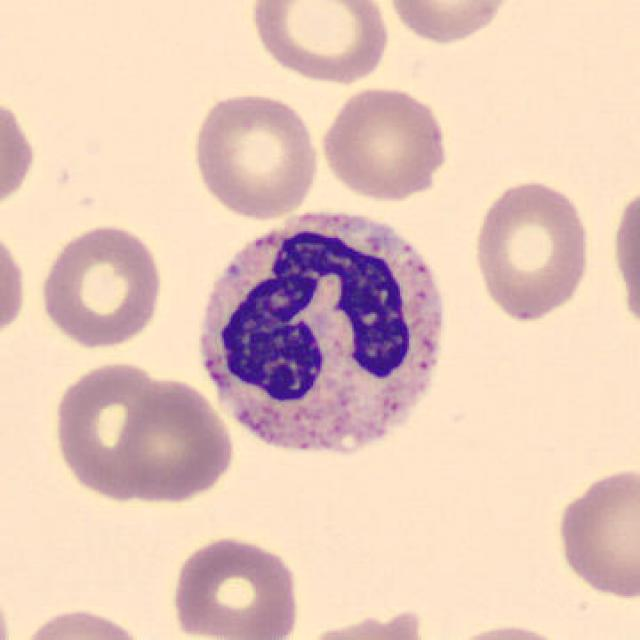Neutrophil: (188, 199, 458, 478)
RBC: (48, 361, 233, 506), (468, 174, 596, 324), (186, 88, 322, 222), (36, 218, 167, 350), (316, 83, 452, 204), (167, 530, 304, 640), (245, 0, 392, 86), (551, 460, 638, 603), (382, 0, 519, 48), (606, 176, 640, 342), (12, 603, 153, 640), (0, 90, 39, 217), (288, 610, 437, 640), (0, 220, 30, 348), (435, 620, 579, 640)
